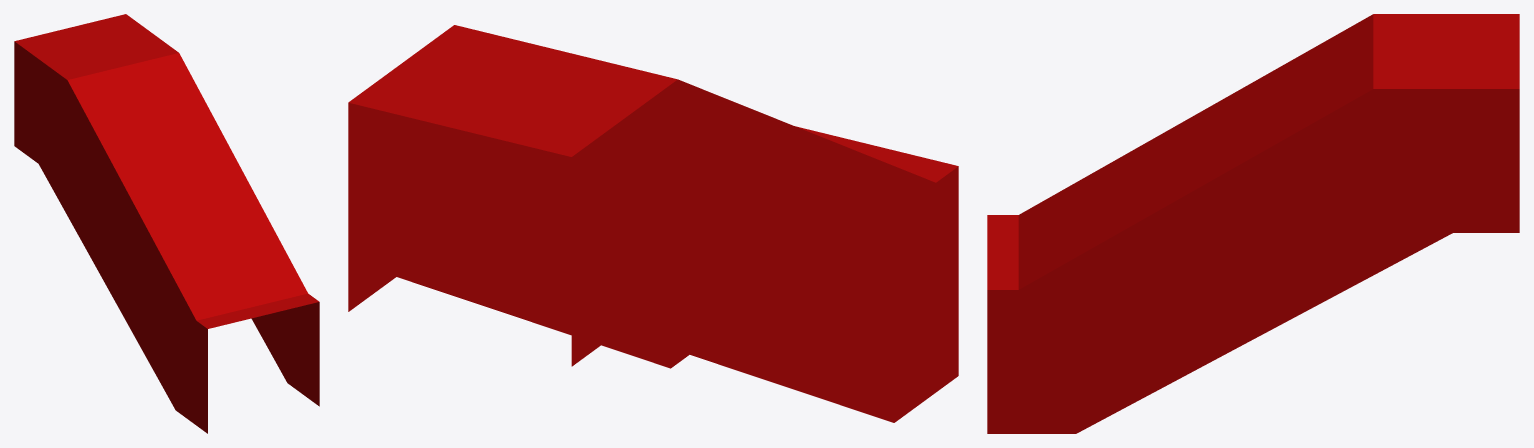
3 renders of one model, left to right at view 1: azimuth 30°, elevation 25°; view 2: azimuth 150°, elevation 25°; view 3: azimuth 270°, elevation 25°, orthographic. The views are drawn at different scales.
Parts seen in each view (by area): view 1: coll_hallway_stairwell_w; view 2: coll_hallway_stairwell_w; view 3: coll_hallway_stairwell_w.
Part boxes in pixels (box(x1,y1,x2,y2)): coll_hallway_stairwell_w: box(14, 14, 319, 433); coll_hallway_stairwell_w: box(348, 25, 958, 422); coll_hallway_stairwell_w: box(987, 14, 1519, 433).
Bounding box in the file's own units: 320 × 687 × 960.
